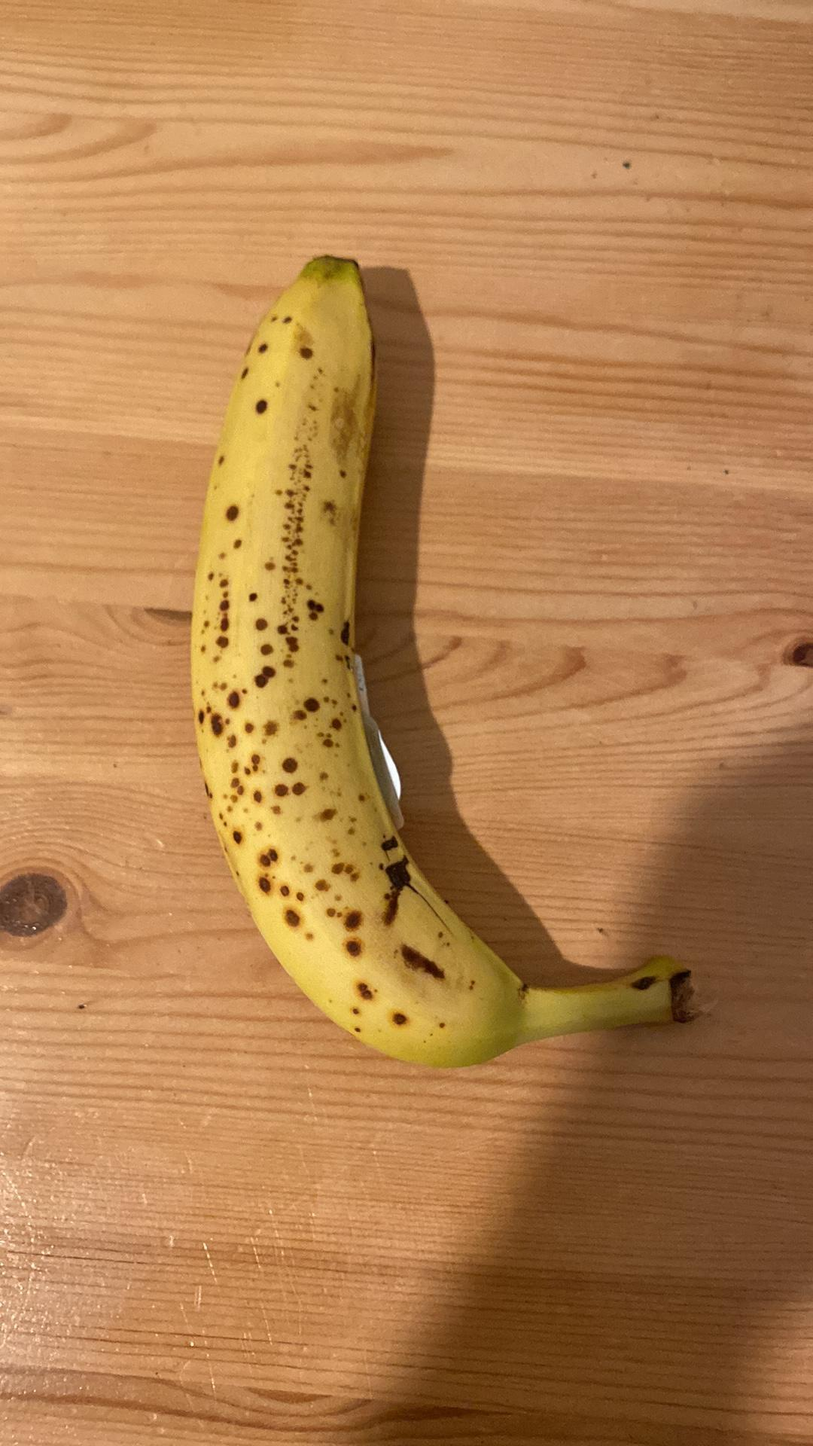banana: (192, 241, 704, 1069)
